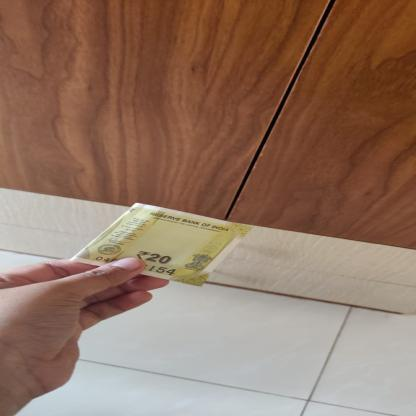New20Front: (72, 202, 257, 288)
